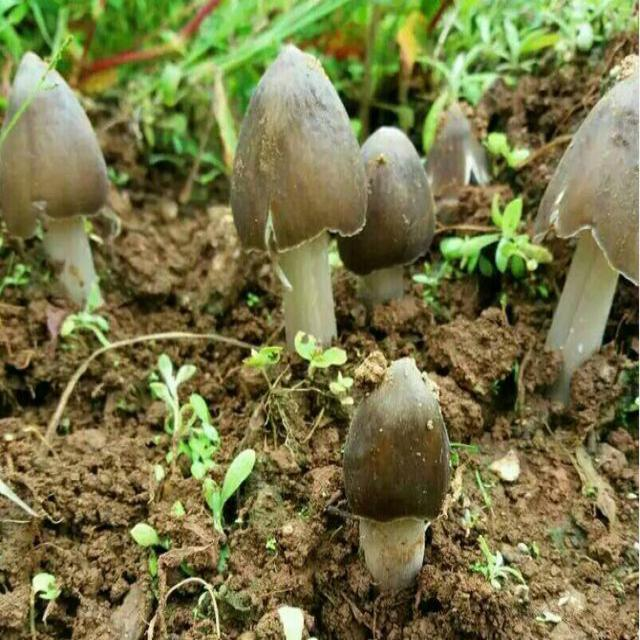Collybia albuminosa: (235, 46, 372, 363), (533, 73, 640, 374), (0, 49, 110, 308), (336, 358, 449, 577), (333, 126, 437, 305)
